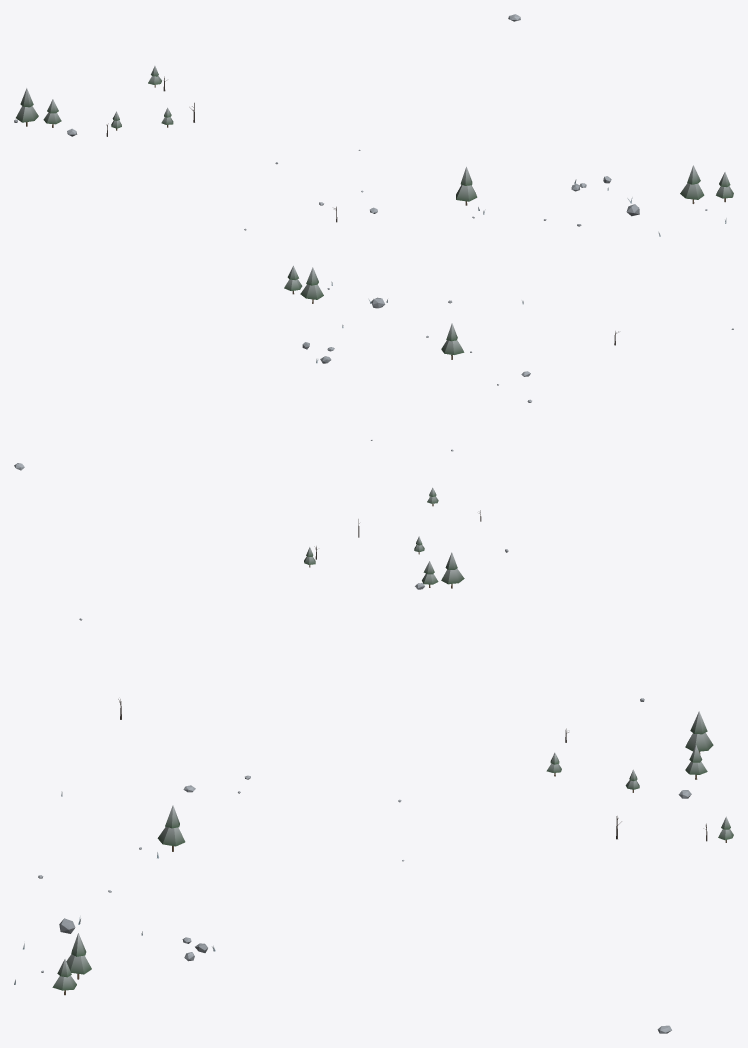
Rendered from frost_land_scatter_c20_11_lod1.glb.
3 renders of one model, top to bottom at view 1: azimuth 30°, elevation 25°; view 2: azimuth 150°, elevation 25°; view 3: azimuth 270°, elevation 25°, orthographic. The views are drawn at different scales.
Visible parts, largest first — view 1: frost_land_scatter_c20_11_lod1; view 2: frost_land_scatter_c20_11_lod1; view 3: frost_land_scatter_c20_11_lod1.
Boxes of the visible parts, box(x1,y1,x2,y2) form: frost_land_scatter_c20_11_lod1: box(14, 14, 733, 236); frost_land_scatter_c20_11_lod1: box(14, 265, 733, 589); frost_land_scatter_c20_11_lod1: box(14, 618, 733, 1033).
Size of the model in its own units: 216 by 44.05 by 216.
